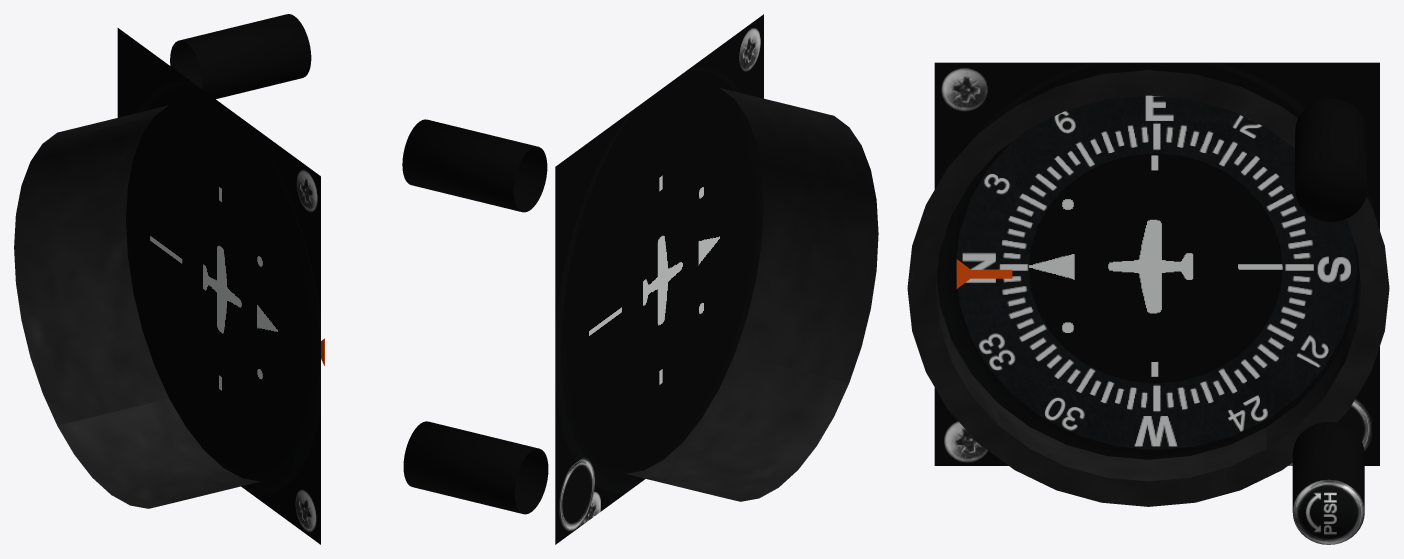
The picture shows the model from 3 angles, left to right: view 1: azimuth 30°, elevation 25°; view 2: azimuth 150°, elevation 25°; view 3: azimuth 270°, elevation 25°; orthographic projection. The views are drawn at different scales.
Visible parts, largest first — view 1: Front, Case, Hdg-Knob; view 2: Front, Case, OBS-Knob, Hdg-Knob; view 3: Front, Face, Case, OBS-Knob, Hdg-Knob, HdgBug.
Part boxes in pixels (box(x1,y1,x2,y2)): Front: box(117, 28, 320, 544); Case: box(14, 105, 259, 508); Hdg-Knob: box(170, 14, 311, 98); Front: box(555, 14, 763, 544); Case: box(622, 88, 878, 501); OBS-Knob: box(403, 421, 548, 514); Hdg-Knob: box(402, 119, 547, 212); Front: box(934, 62, 1379, 465); Face: box(955, 95, 1357, 449); Case: box(907, 70, 1389, 506); OBS-Knob: box(1292, 421, 1364, 544); Hdg-Knob: box(1295, 98, 1366, 221); HdgBug: box(956, 259, 1012, 288).
Bounding box in the file's own units: 0.056 × 0.08 × 0.08.
1 material, 1 textured.
